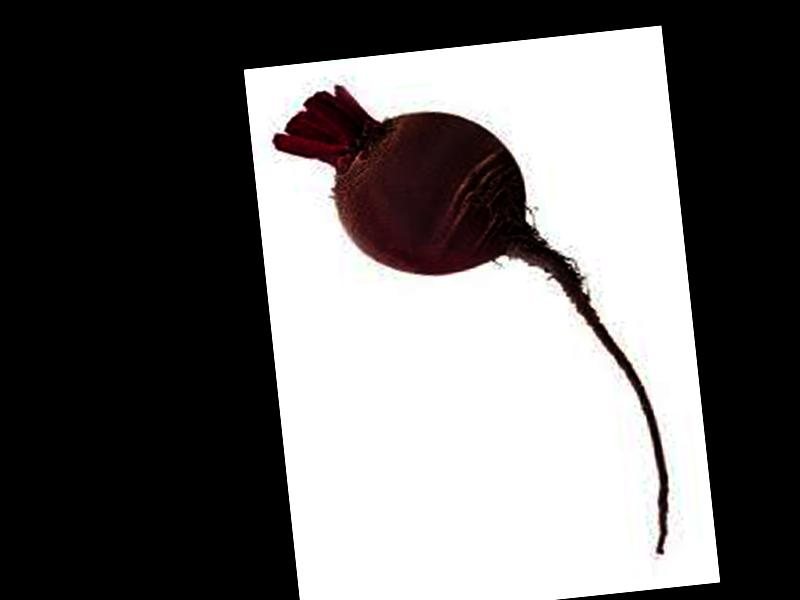Beet: (267, 58, 675, 594)
